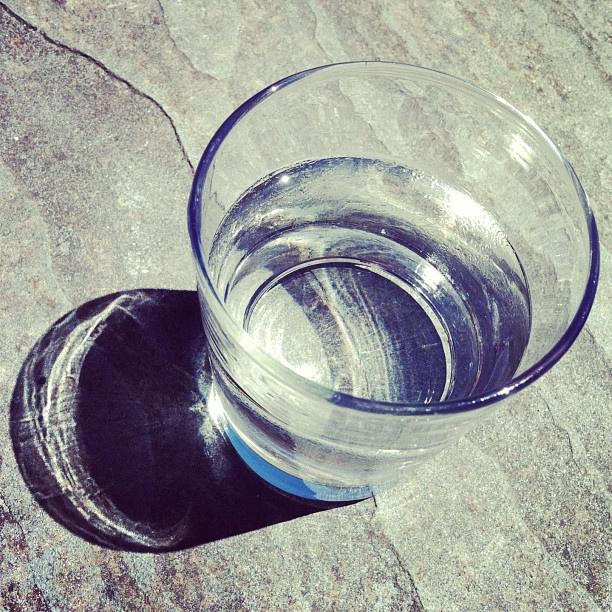glass of water: (191, 61, 602, 508)
